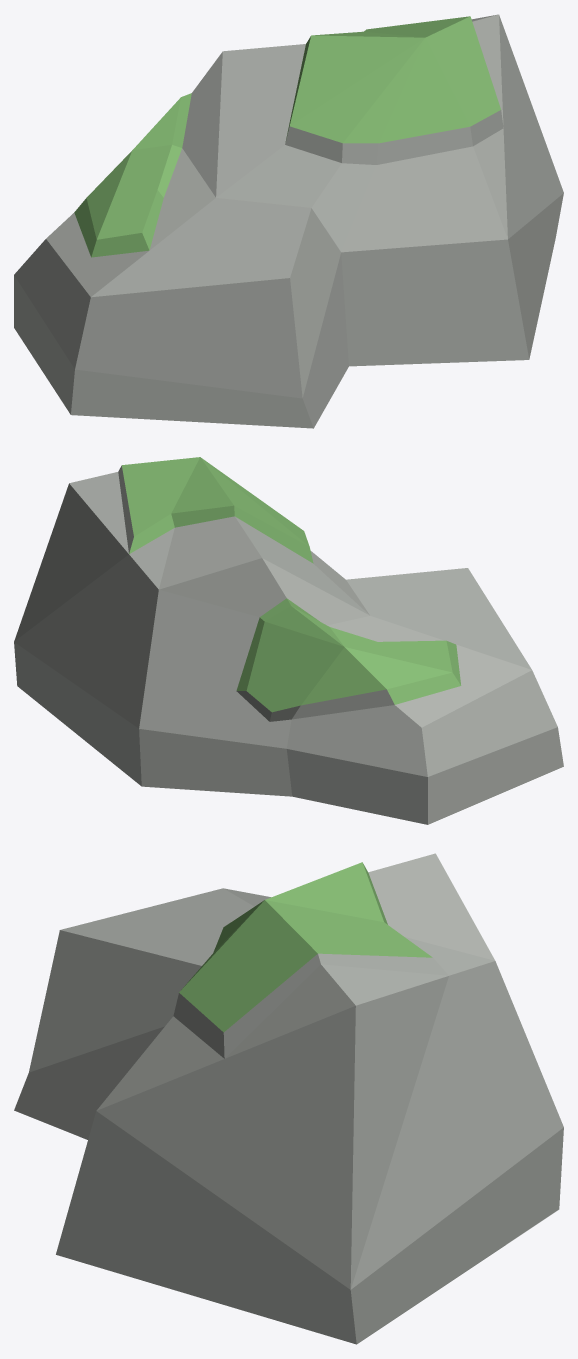
The model's file is lpset_rock_mossy_a.glb.
3 renders of one model, top to bottom at view 1: azimuth 30°, elevation 25°; view 2: azimuth 150°, elevation 25°; view 3: azimuth 270°, elevation 25°, orthographic. The views are drawn at different scales.
Parts seen in each view (by area): view 1: lpset_rock_mossy_a; view 2: lpset_rock_mossy_a; view 3: lpset_rock_mossy_a.
Boxes of the visible parts, x1,y1,x2,y2 form: lpset_rock_mossy_a: (14, 14, 563, 428); lpset_rock_mossy_a: (14, 457, 563, 824); lpset_rock_mossy_a: (14, 853, 563, 1344).
Size of the model in its own units: 0.68 by 0.3158 by 0.4614.
